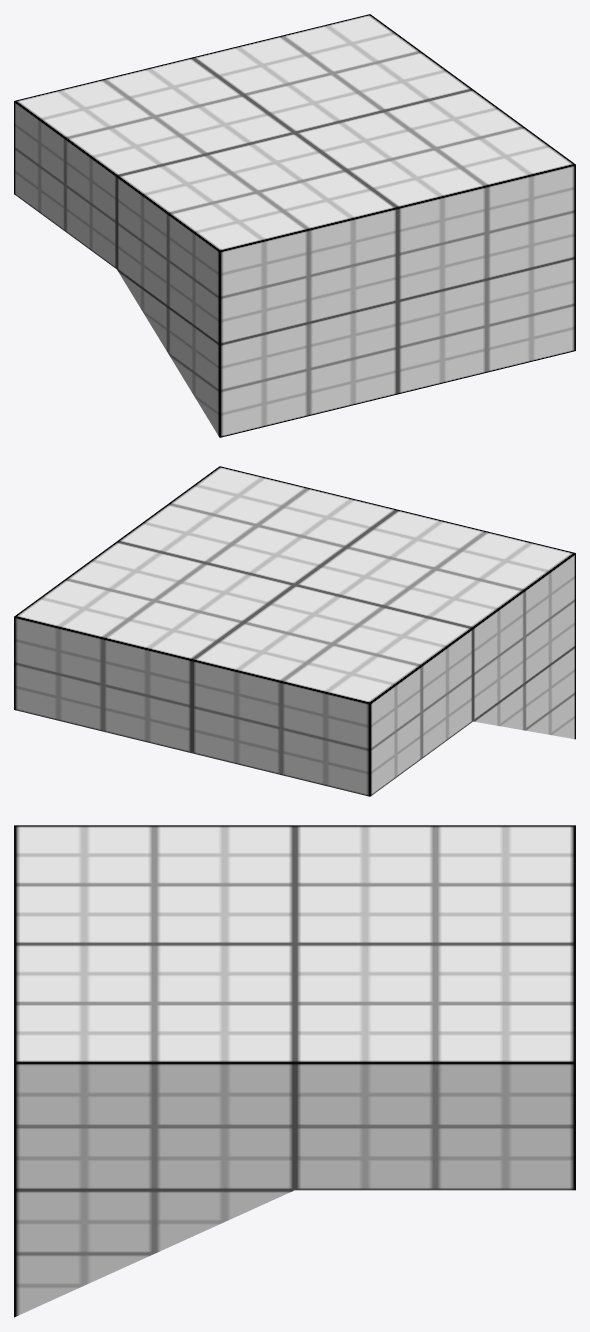
File: half-joint.fbx
3 renders of one model, top to bottom at view 1: azimuth 30°, elevation 25°; view 2: azimuth 150°, elevation 25°; view 3: azimuth 270°, elevation 25°, orthographic. The views are drawn at different scales.
Visible parts, largest first — view 1: Yplus, Zplus, Xminus; view 2: Yplus, Zminus, Xminus; view 3: Yplus, Xplus.
Boxes of the visible parts, x1,y1,x2,y2 form: Yplus: (14,14,575,251); Zplus: (219,164,575,437); Xminus: (14,101,219,437); Yplus: (14,466,575,703); Zminus: (14,617,370,796); Xminus: (370,553,575,796); Yplus: (14,825,575,1062); Xplus: (14,1063,575,1317).
Bounding box in the file's own units: 100 × 50 × 100.
